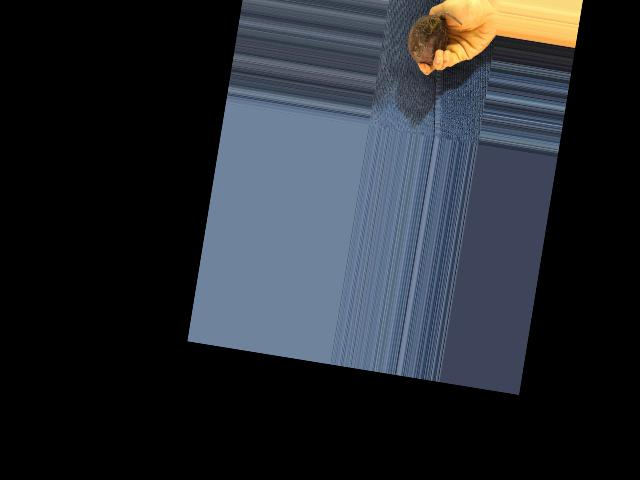beet: (405, 7, 464, 69)
